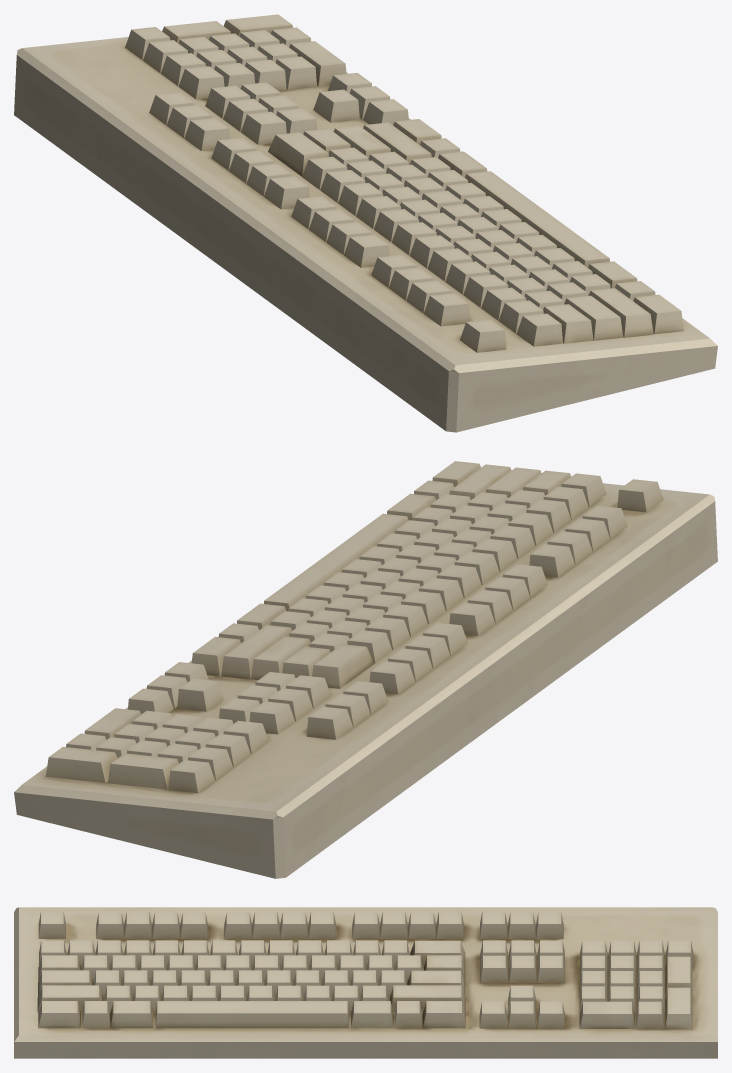
The model's file is Keyboard.fbx.
3 renders of one model, top to bottom at view 1: azimuth 30°, elevation 25°; view 2: azimuth 150°, elevation 25°; view 3: azimuth 270°, elevation 25°, orthographic. The views are drawn at different scales.
Visible parts, largest first — view 1: Keybaord; view 2: Keybaord; view 3: Keybaord.
Part boxes in pixels (<box>): Keybaord: <box>14,14,717,432</box>; Keybaord: <box>14,461,717,878</box>; Keybaord: <box>14,907,717,1058</box>.
Bounding box in the file's own units: 30.41 × 8.42 × 86.32.
